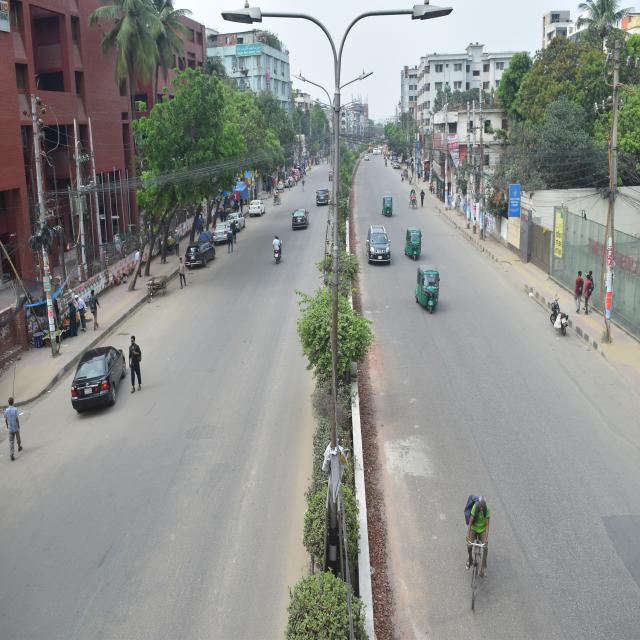car: (70, 332, 125, 409), (180, 240, 214, 267), (290, 206, 310, 231), (314, 187, 331, 209), (210, 222, 230, 240), (224, 211, 245, 228), (248, 198, 264, 216), (282, 178, 294, 188), (364, 155, 369, 161)
motorbike: (547, 290, 577, 332), (271, 237, 285, 263)
